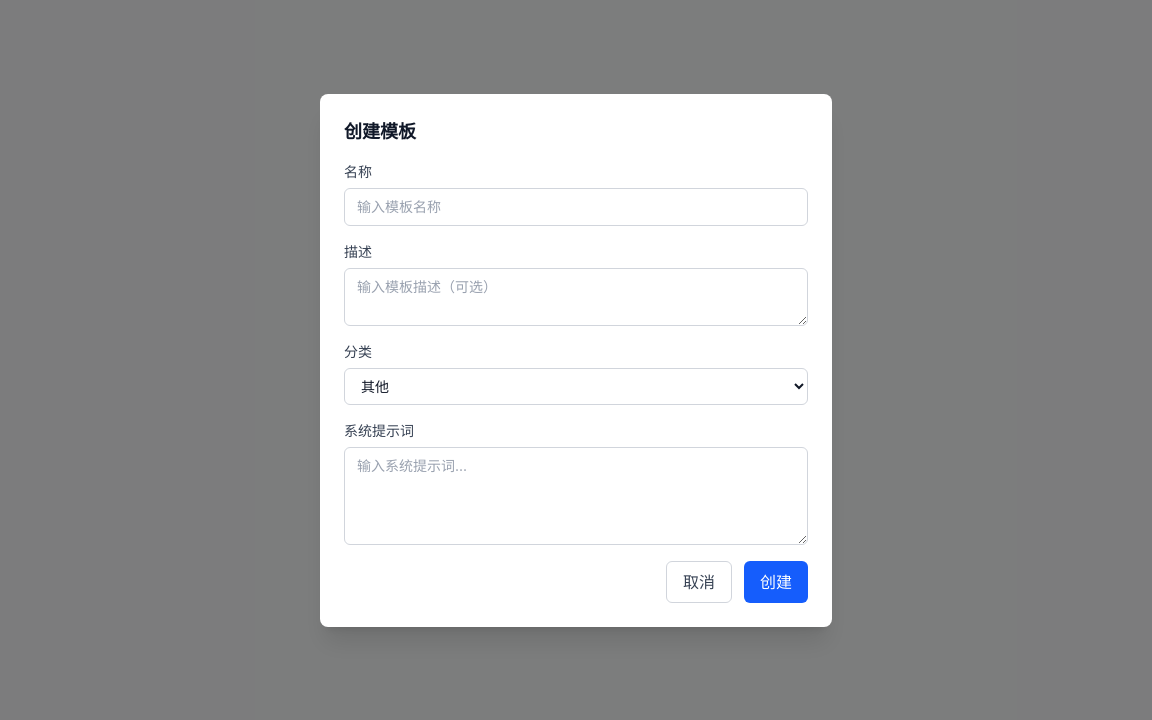
Test: TemplateCreateDialog › 应该显示表单验证错误 - 名称和系统提示词为必填
The image size is (1152, 720).
Click the button "创建": x=776, y=582 [744,560,808,602]
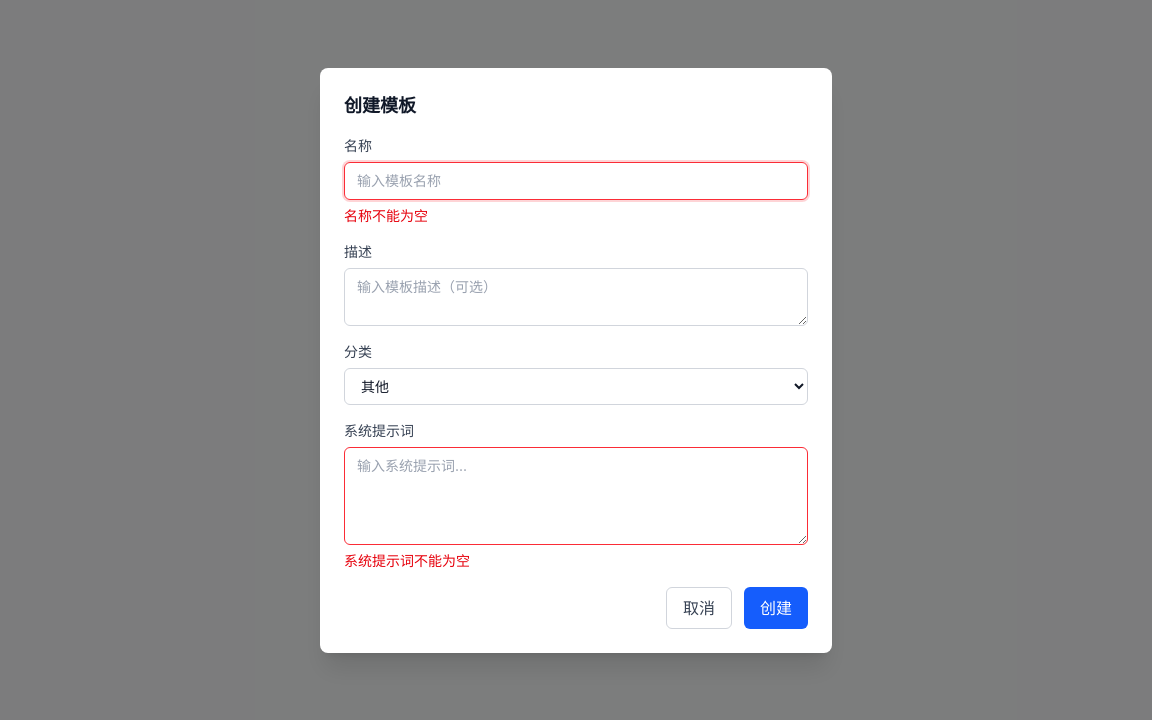
Now the text "名称不能为空" is shown, box [344,206,428,224]
Now the text "系统提示词不能为空" is shown, box [344,552,470,568]
